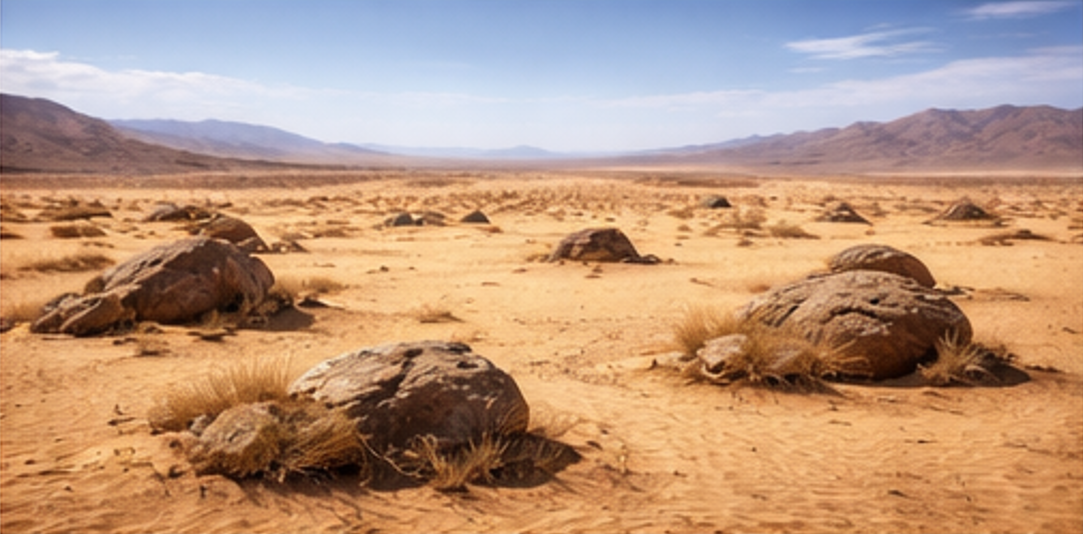rocks: (288, 342, 527, 451), (738, 270, 970, 378), (30, 236, 273, 334), (827, 244, 934, 285), (547, 228, 657, 260), (815, 202, 871, 224)
